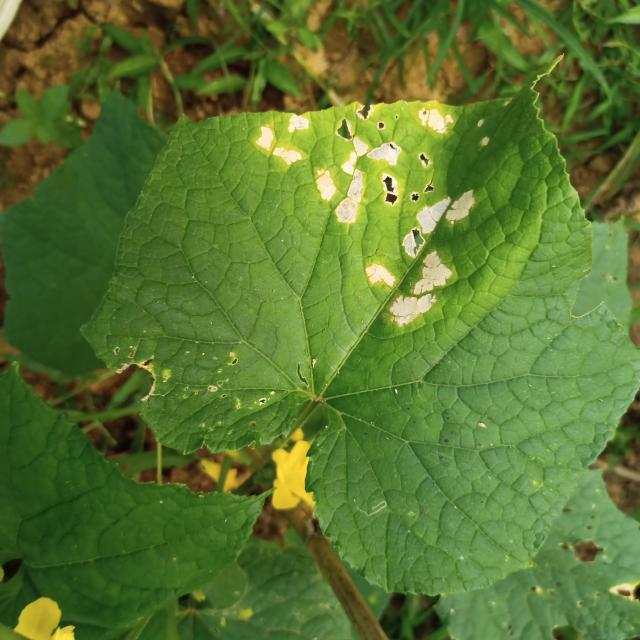disease_cucumber: (251, 93, 481, 338)
